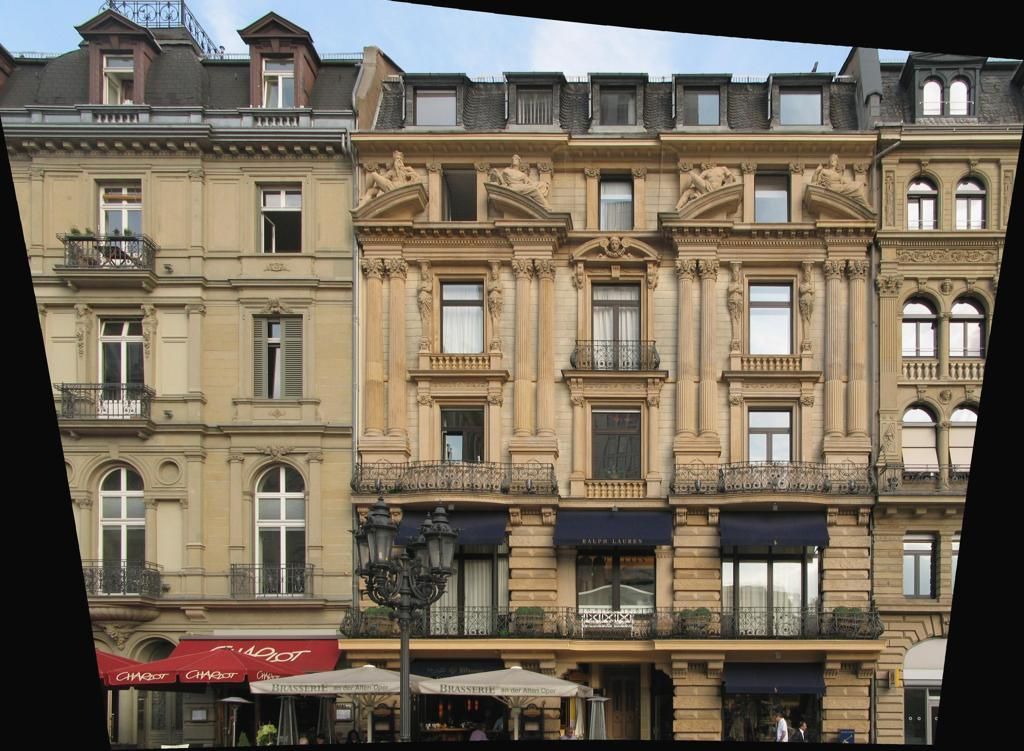window: (720, 531, 825, 636), (406, 532, 511, 636), (89, 460, 146, 596), (576, 532, 657, 619), (250, 461, 306, 565), (96, 315, 144, 420), (591, 279, 643, 371), (252, 314, 304, 399), (94, 179, 142, 268), (591, 405, 642, 479), (748, 279, 795, 355), (438, 277, 484, 354), (255, 182, 302, 253), (748, 404, 794, 466), (949, 291, 990, 360), (949, 399, 989, 469), (902, 400, 941, 470), (902, 291, 941, 360), (441, 404, 485, 465), (903, 530, 941, 600), (598, 168, 634, 231), (754, 164, 792, 223), (439, 163, 477, 222), (907, 171, 941, 231), (956, 171, 990, 231), (99, 49, 134, 106), (260, 52, 294, 109), (413, 85, 458, 127), (779, 85, 824, 126), (515, 85, 554, 126), (600, 85, 638, 127), (683, 85, 721, 126), (950, 74, 971, 116), (924, 75, 945, 116)
